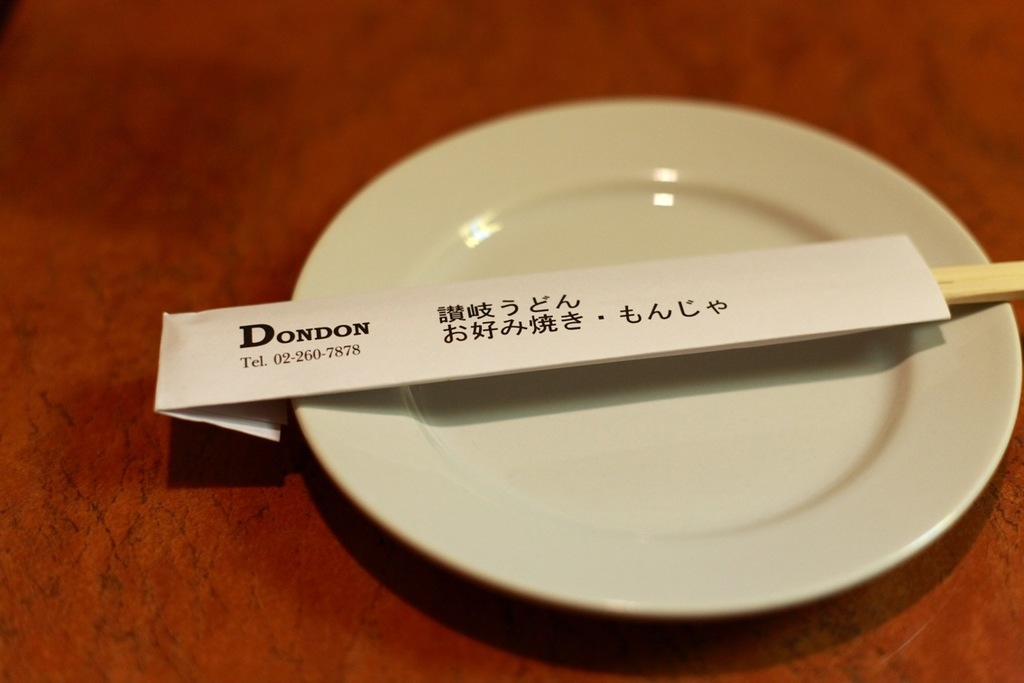plate: (256, 134, 996, 592)
